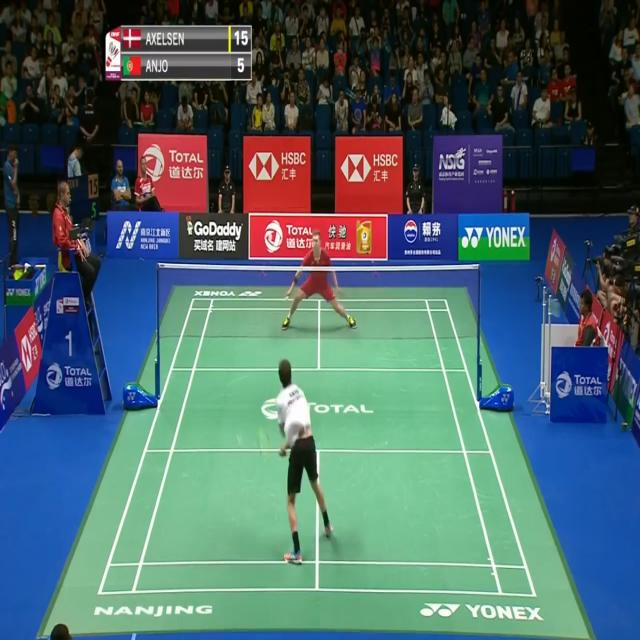Player1: (271, 352, 341, 575)
Player2: (274, 222, 364, 345)
